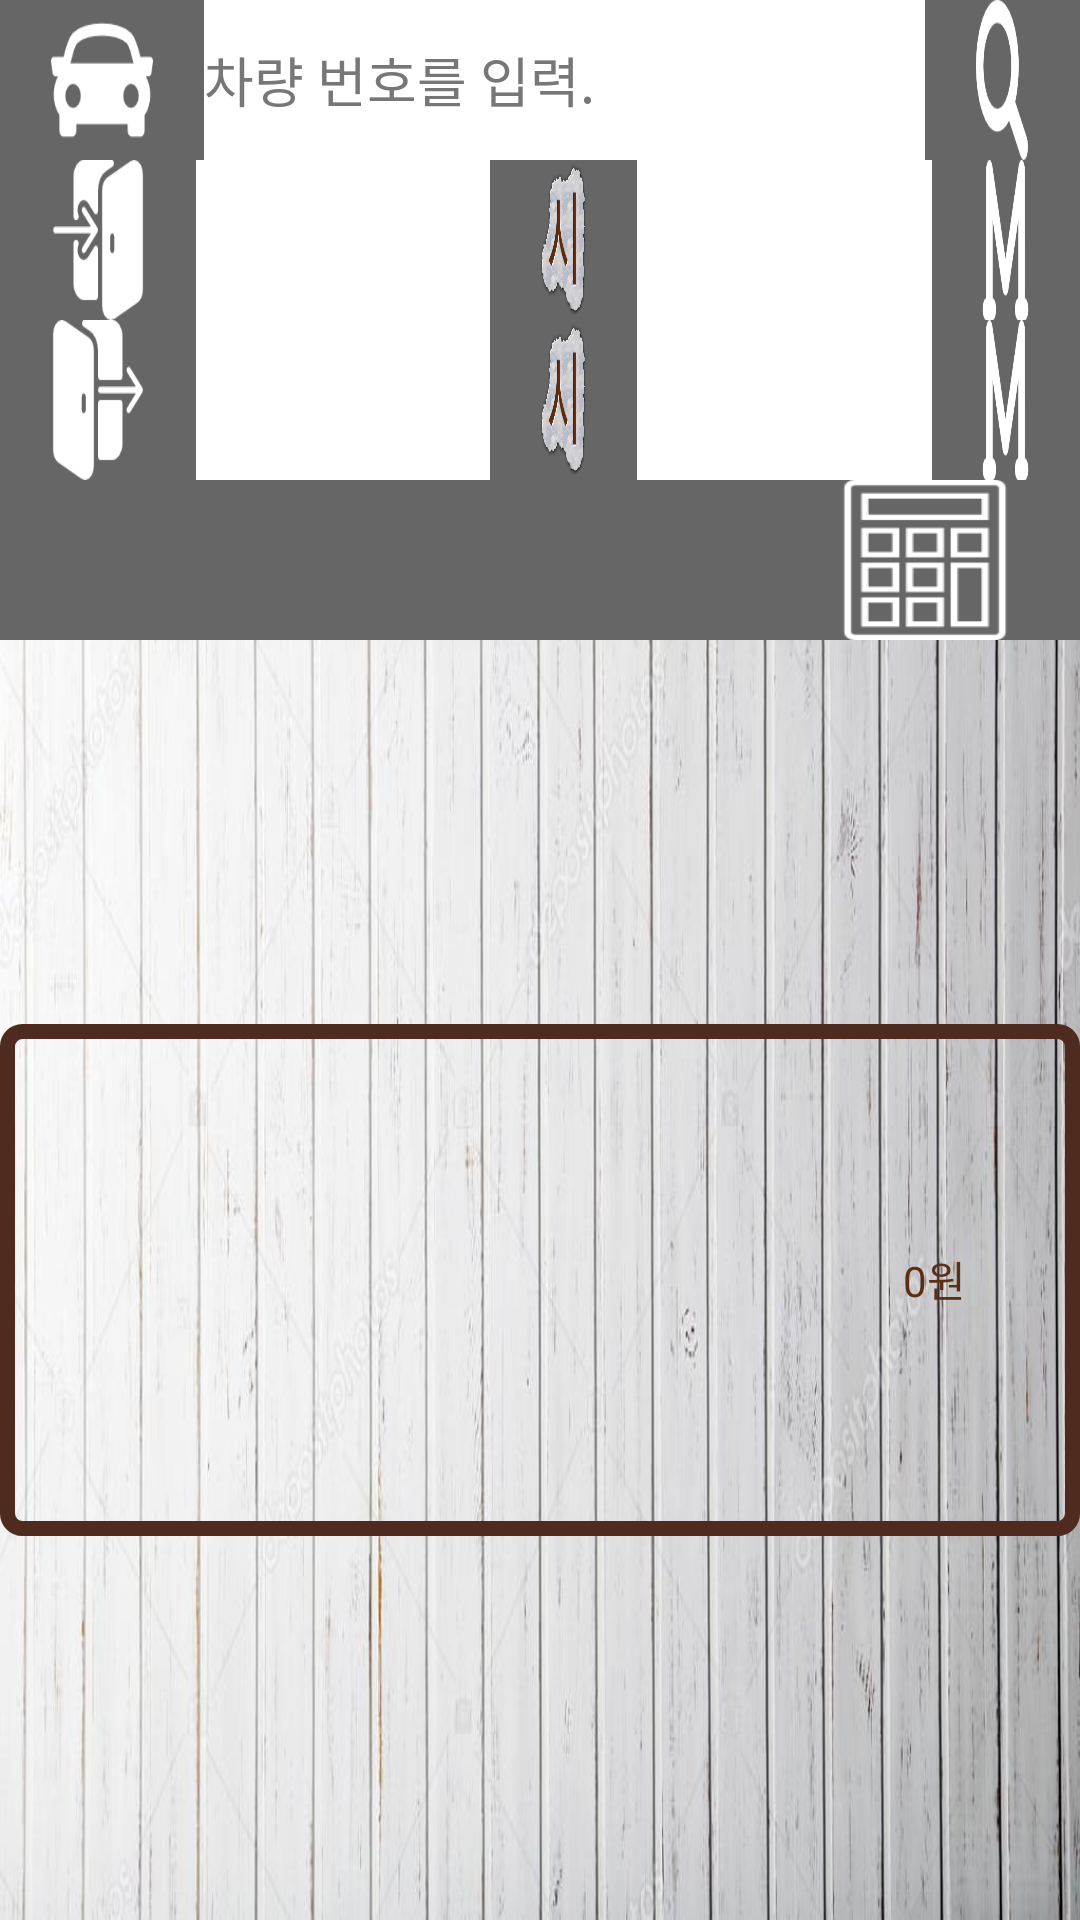

Screen size 1080w x 1920h. Icon name, then its center in pixels as (x=x, y=y):
calculator: (x=925, y=560)
car: (x=102, y=80)
enter: (x=98, y=240)
exit: (x=98, y=400)
search: (x=1002, y=80)
